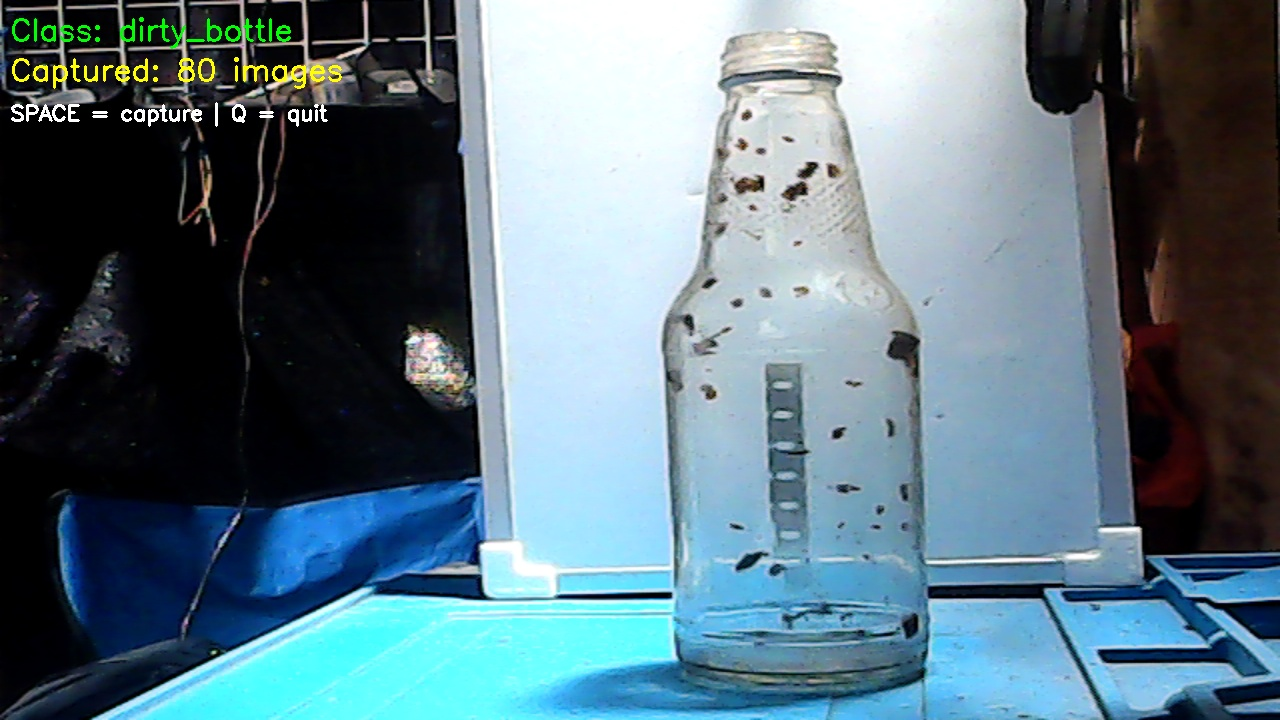dirty_bottle: (634, 17, 945, 695)
